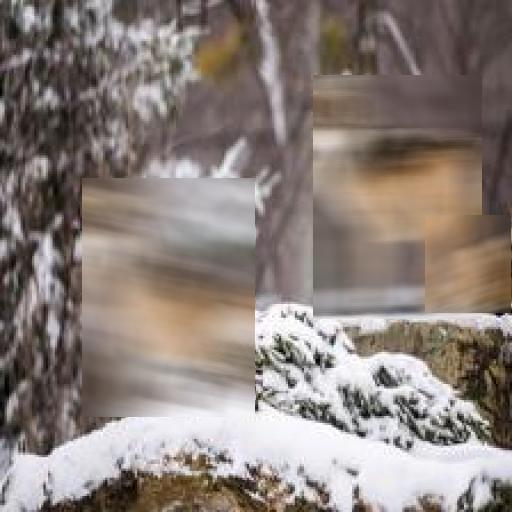wolf: (82, 178, 255, 417), (313, 75, 482, 319), (425, 215, 511, 313)
